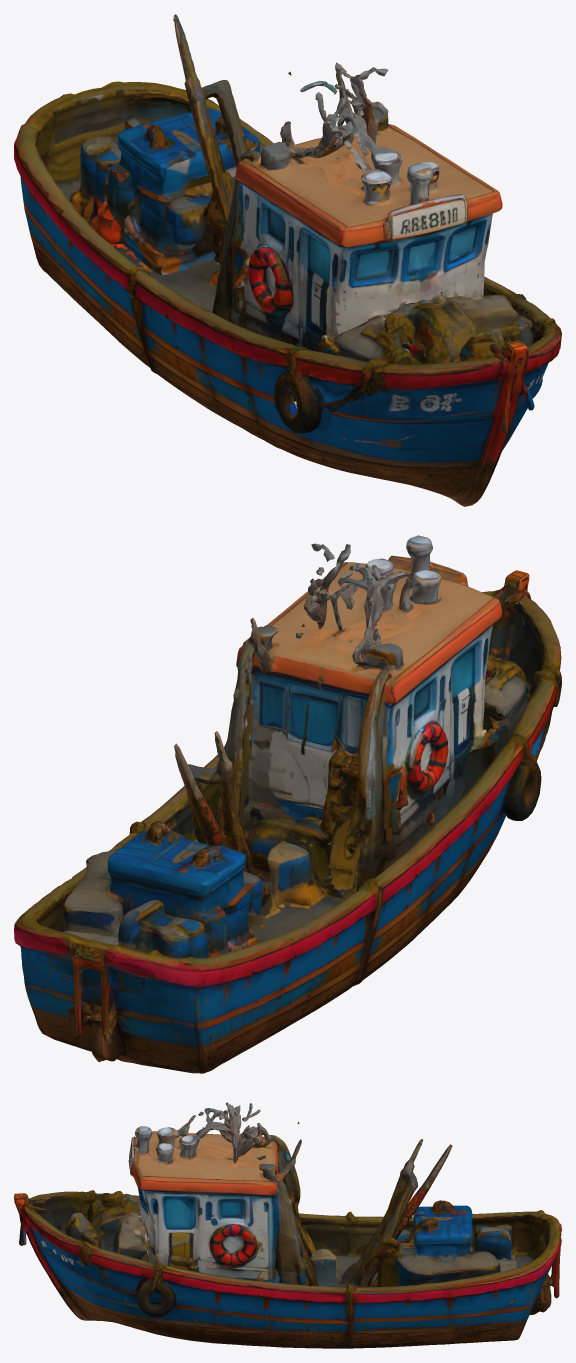
3 views of the same model, one above another, from view 1: azimuth 30°, elevation 25°; view 2: azimuth 150°, elevation 25°; view 3: azimuth 270°, elevation 25° (orthographic). The views are drawn at different scales.
Visible parts, largest first — view 1: textured_mesh.obj; view 2: textured_mesh.obj; view 3: textured_mesh.obj.
Part boxes in pixels (x1,y1,x2,y2): textured_mesh.obj: [14, 14, 561, 506]; textured_mesh.obj: [14, 535, 561, 1073]; textured_mesh.obj: [14, 1102, 561, 1348].
Size of the model in its own units: 0.6656 by 0.8858 by 1.99.
Materials: 1 (1 with a texture image).
